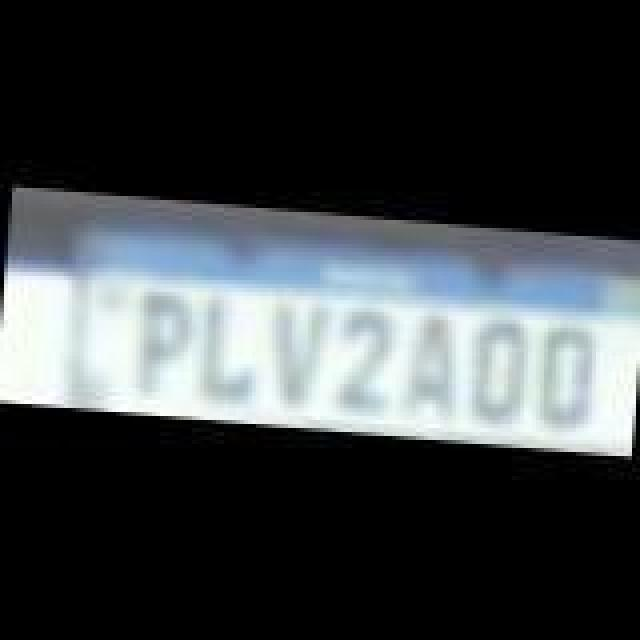2: (326, 304, 394, 416)
A: (398, 308, 466, 420)
D: (528, 318, 600, 434), (460, 318, 532, 426)
L: (194, 296, 270, 408)
P: (130, 288, 190, 400)
V: (262, 294, 330, 410)
